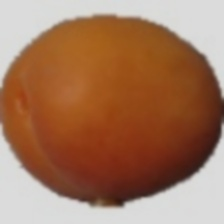apricot: (36, 43, 175, 199)
